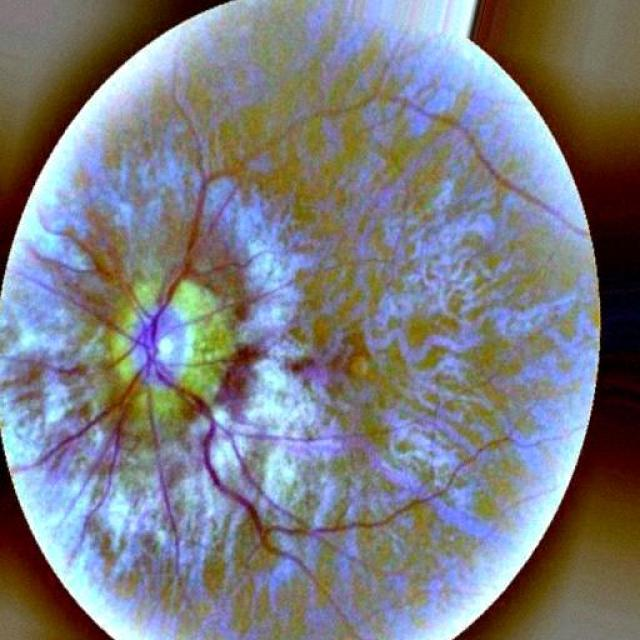Macula: (298, 338, 377, 381)
Nerves: (155, 370, 431, 586), (143, 157, 248, 352), (12, 356, 151, 475)
Optic Disk: (112, 285, 231, 431)
